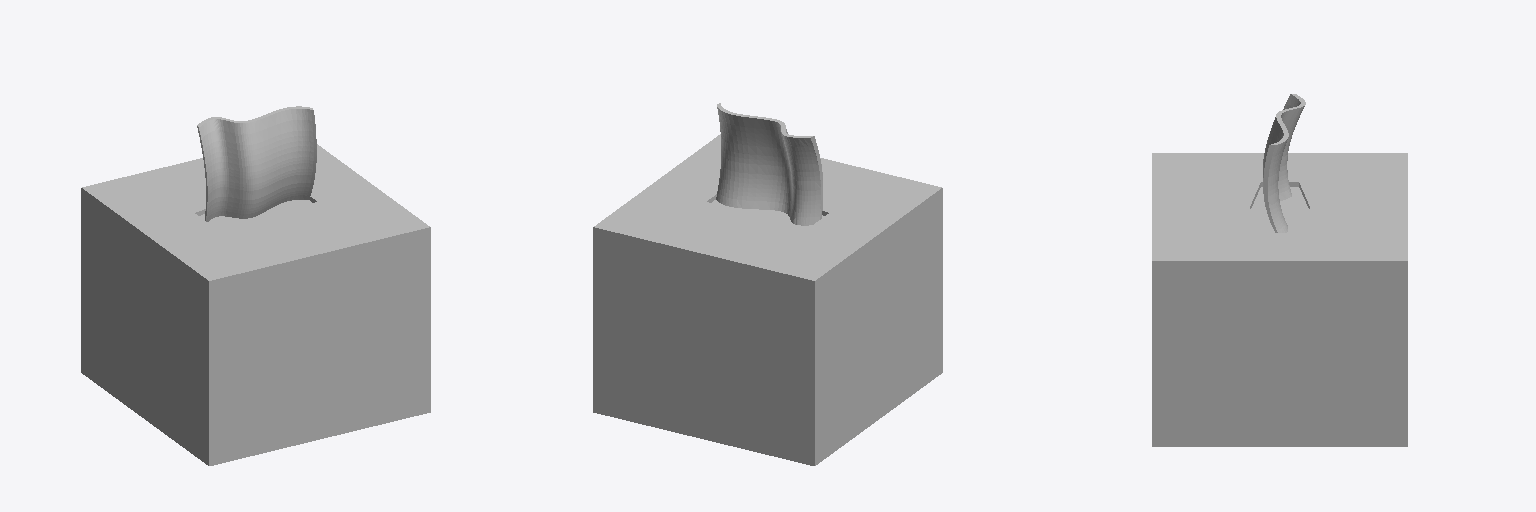
3 renders of one model, left to right at view 1: azimuth 30°, elevation 25°; view 2: azimuth 150°, elevation 25°; view 3: azimuth 270°, elevation 25°, orthographic.
Visible parts, largest first — view 1: Body1.001, Body3.001; view 2: Body1.001, Body3.001; view 3: Body1.001, Body3.001.
Part boxes in pixels (bbox=[...]): Body1.001: bbox=[81, 144, 430, 465]; Body3.001: bbox=[197, 106, 316, 221]; Body1.001: bbox=[593, 134, 942, 465]; Body3.001: bbox=[716, 103, 822, 225]; Body1.001: bbox=[1152, 153, 1407, 446]; Body3.001: bbox=[1263, 94, 1305, 232].
Size of the model in its own units: 100 by 118 by 100.